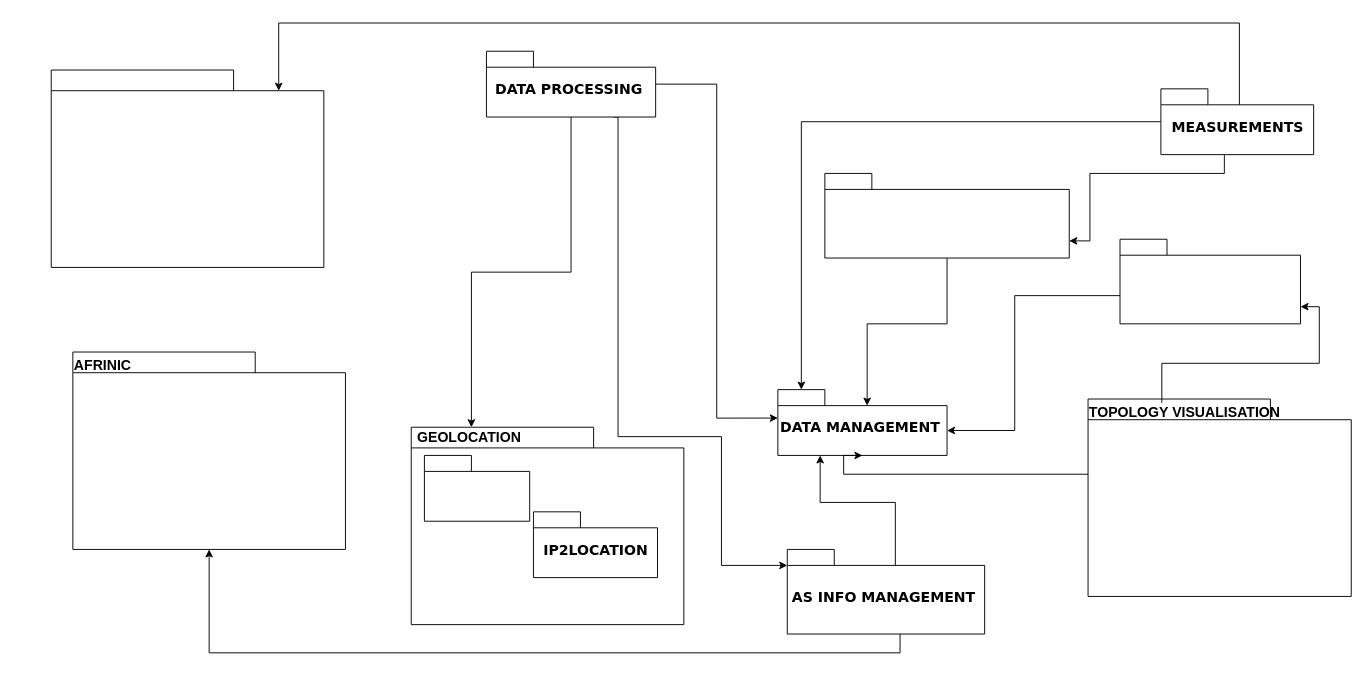
This 1368x677 diagram has some shape labels left out. Here are the shapes that lost their labels. From the top down, the box of each, then its label:
(50, 69, 324, 267): RIPE ATLAS
(824, 172, 1069, 258): VANTAGE_POINTS & TARGETS
(1119, 238, 1300, 324): API_CONTROLLER
(423, 454, 530, 521): MAXMIND
